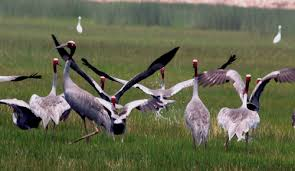seu_dau_do: (82, 62, 203, 112), (53, 40, 109, 143), (218, 73, 261, 148), (31, 57, 71, 132), (184, 57, 212, 150)
